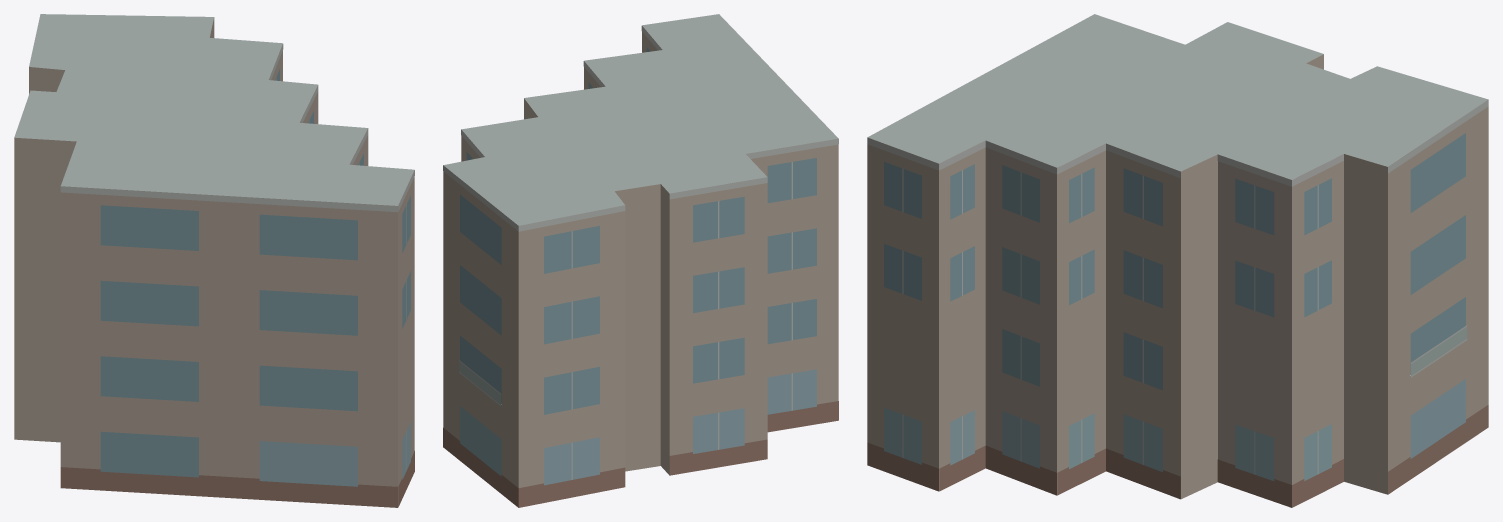
The model's file is survey-upis-32872923.glb.
3 renders of one model, left to right at view 1: azimuth 30°, elevation 25°; view 2: azimuth 150°, elevation 25°; view 3: azimuth 270°, elevation 25°, orthographic. The views are drawn at different scales.
Visible parts, largest first — view 1: survey-upis-32872923.tmp; view 2: survey-upis-32872923.tmp; view 3: survey-upis-32872923.tmp.
Boxes of the visible parts, <box> form: survey-upis-32872923.tmp: <box>14,14,414,507</box>; survey-upis-32872923.tmp: <box>443,14,838,507</box>; survey-upis-32872923.tmp: <box>867,14,1488,507</box>.
Size of the model in its own units: 12.83 by 11.8 by 20.28.
